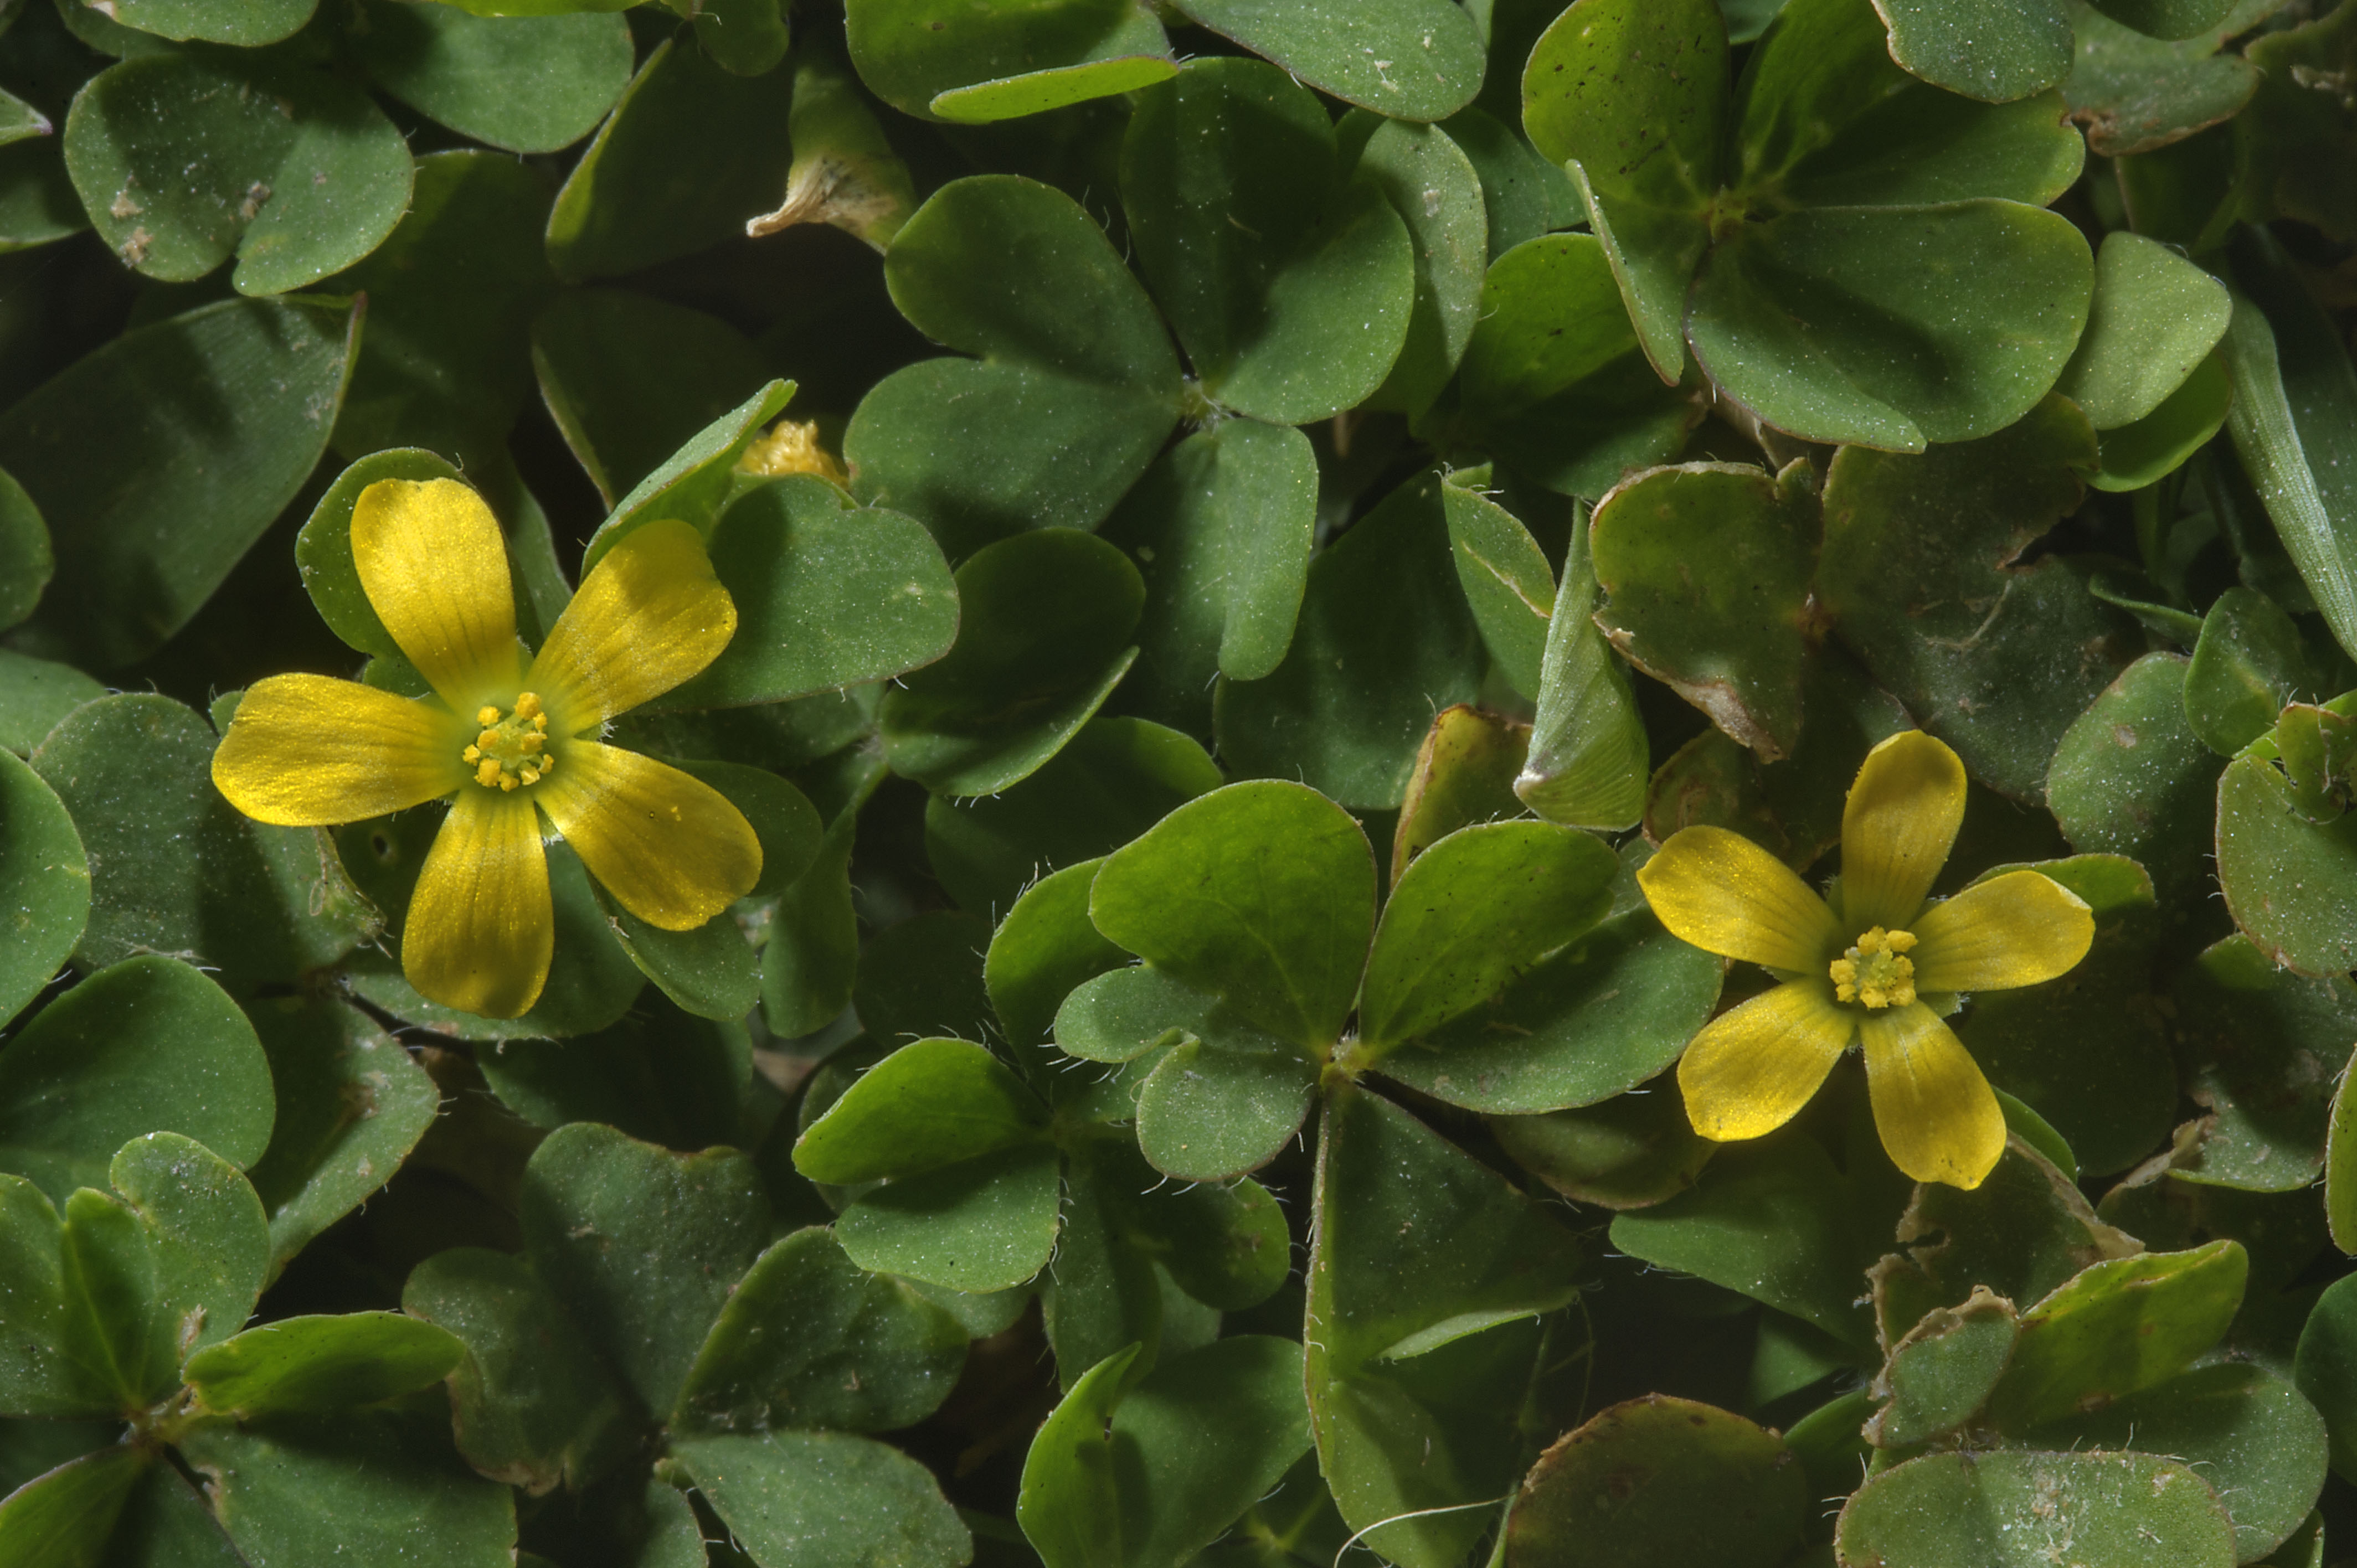oxalis: (73, 66, 2315, 1568)
